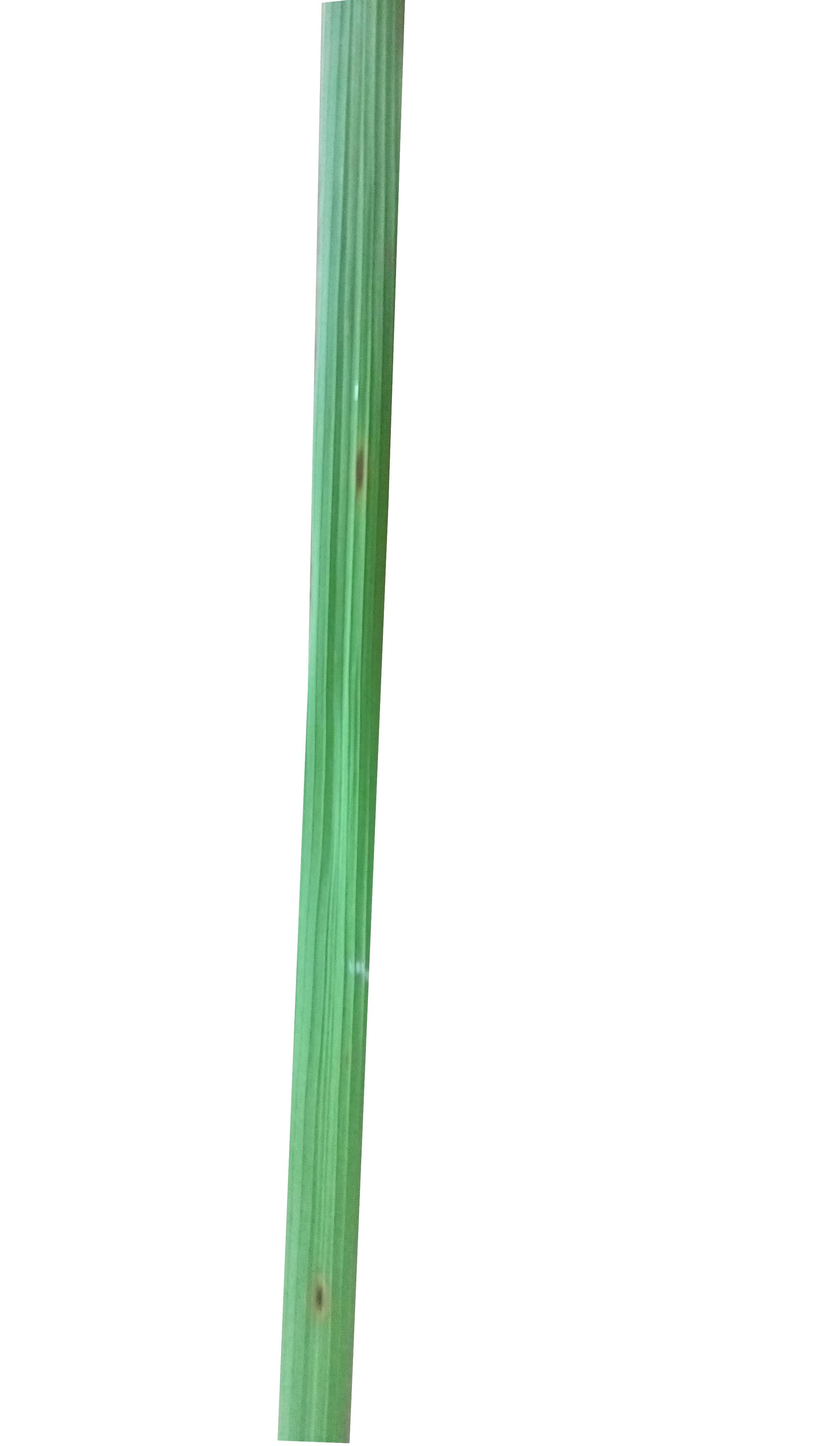Brown spot: (348, 416, 374, 516), (311, 1267, 333, 1330)
